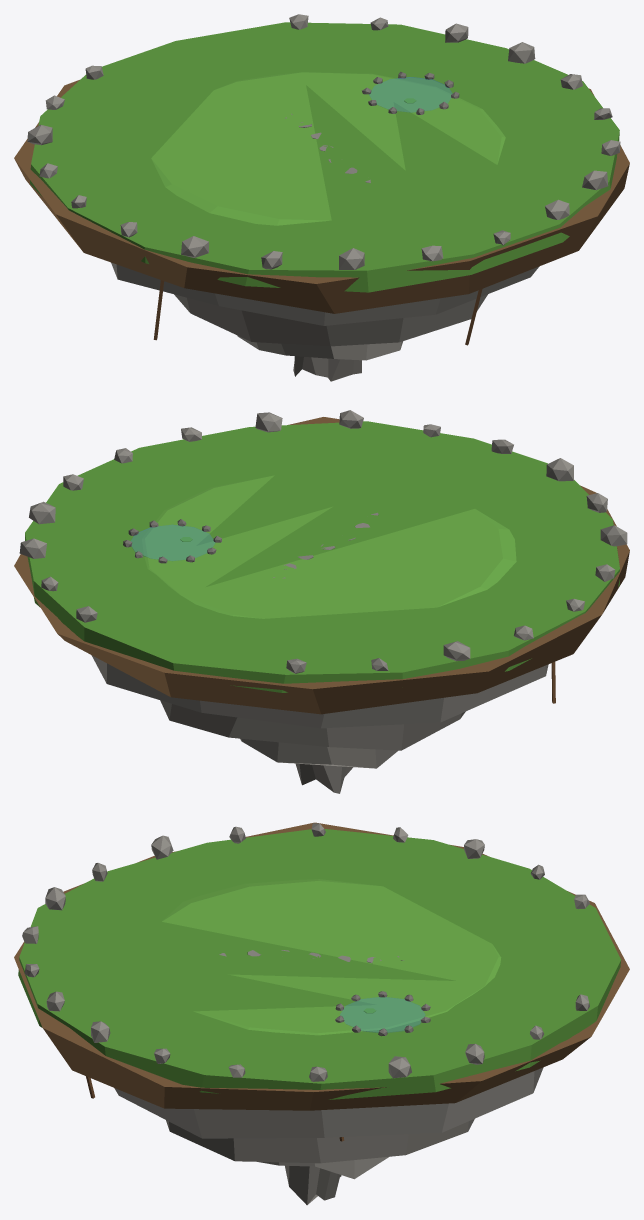
Rendered from hubIsland.fbx.
3 views of the same model, one above another, from view 1: azimuth 30°, elevation 25°; view 2: azimuth 150°, elevation 25°; view 3: azimuth 270°, elevation 25° (orthographic).
Parts seen in each view (by area): view 1: hubIsland; view 2: hubIsland; view 3: hubIsland.
Boxes of the visible parts, box(x1,y1,x2,y2) form: hubIsland: box(14, 14, 629, 381); hubIsland: box(14, 410, 629, 793); hubIsland: box(14, 822, 629, 1205).
Size of the model in its own units: 58.41 by 26.25 by 57.45.
